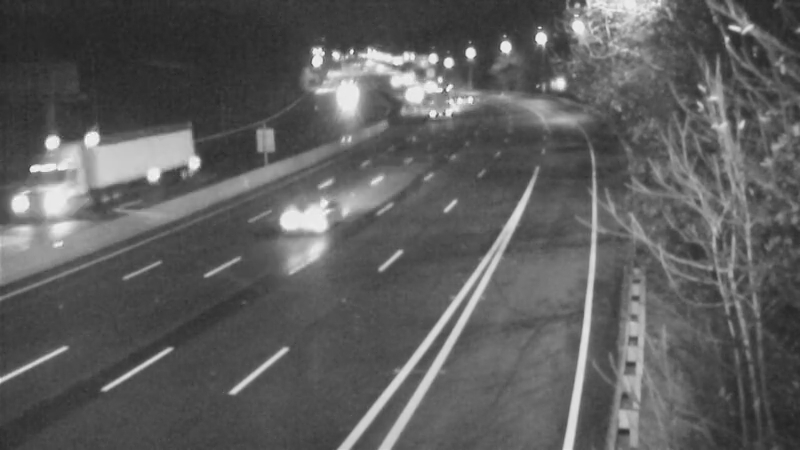vehicle: (276, 179, 356, 259), (69, 142, 149, 222), (439, 74, 489, 124), (390, 71, 440, 121), (409, 77, 459, 127), (317, 73, 367, 123)
